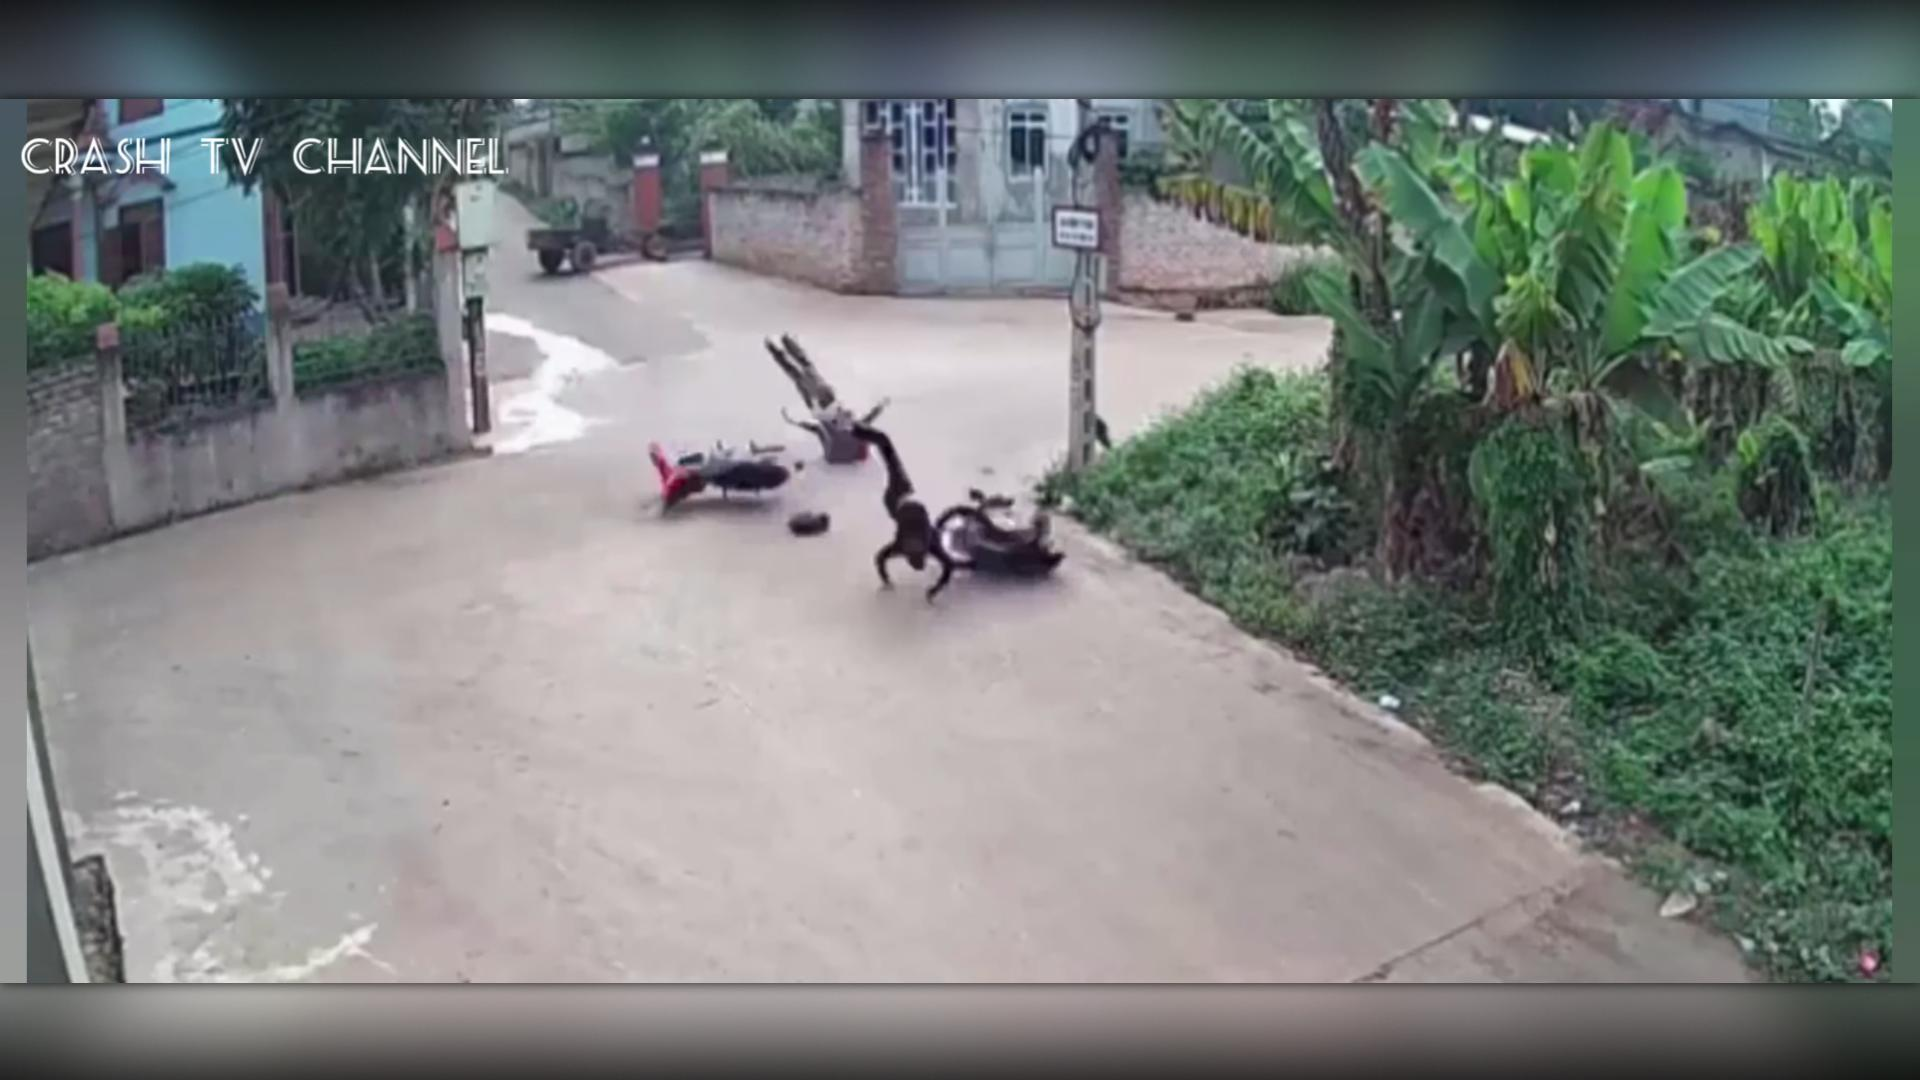accident: (617, 326, 1079, 644), (636, 418, 798, 522), (931, 472, 1063, 591)
